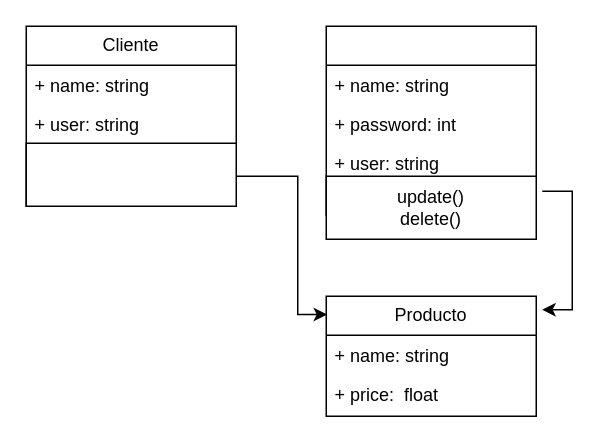
Some shapes in this 611 by 447 pixel diagram are drawn without their labels. The shapes that lost their labels are listed below. From the top down, each one's box as (x1, y1, x2, y2) in pixels, then its label:
(325, 25, 536, 215): Vendedor
(25, 142, 236, 206): comprar() cancelar()
